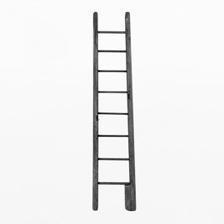Hand: (118, 35, 193, 170)
